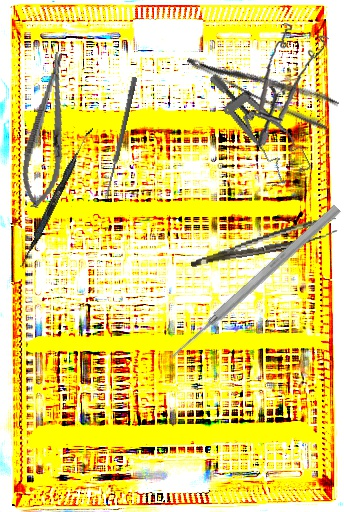Dressing Forceps: (185, 33, 340, 134)
Needle Holder: (15, 49, 80, 211)
Pusher: (166, 202, 343, 363)
Spatula Surgical: (18, 124, 94, 271)
Speculum: (207, 53, 314, 195), (244, 18, 340, 147)
Surgical Spoon: (103, 76, 138, 200)
Tissue Forceps: (187, 216, 340, 268)
